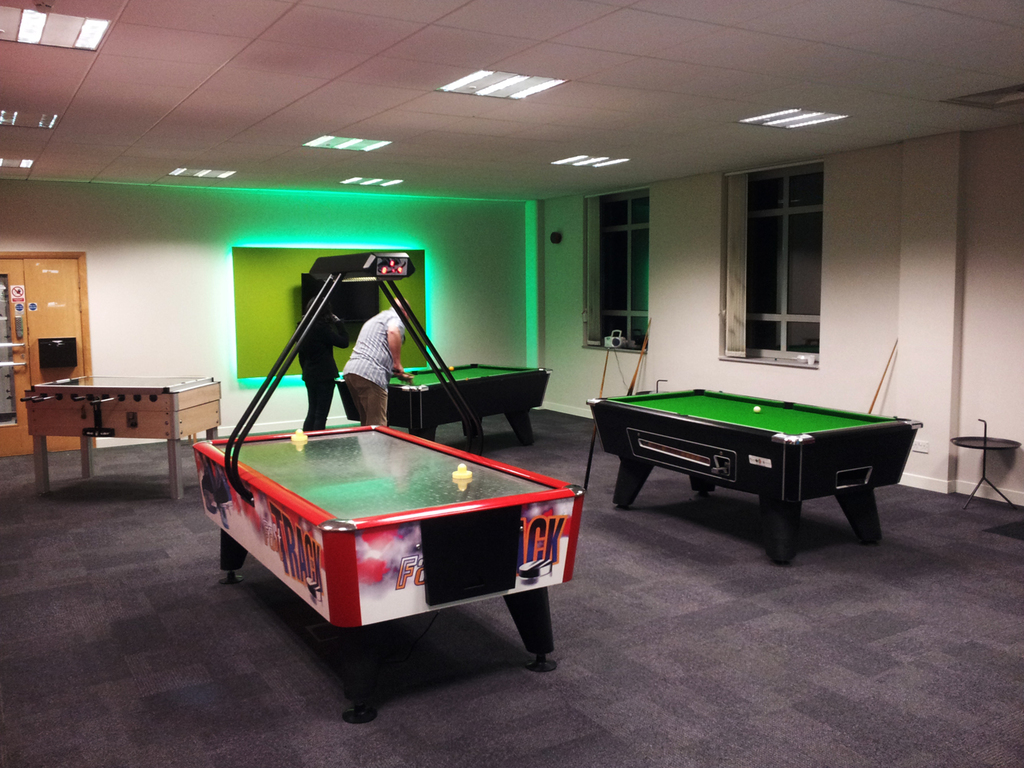Ball: (293, 425, 303, 436), (457, 462, 468, 472), (754, 406, 762, 415)
